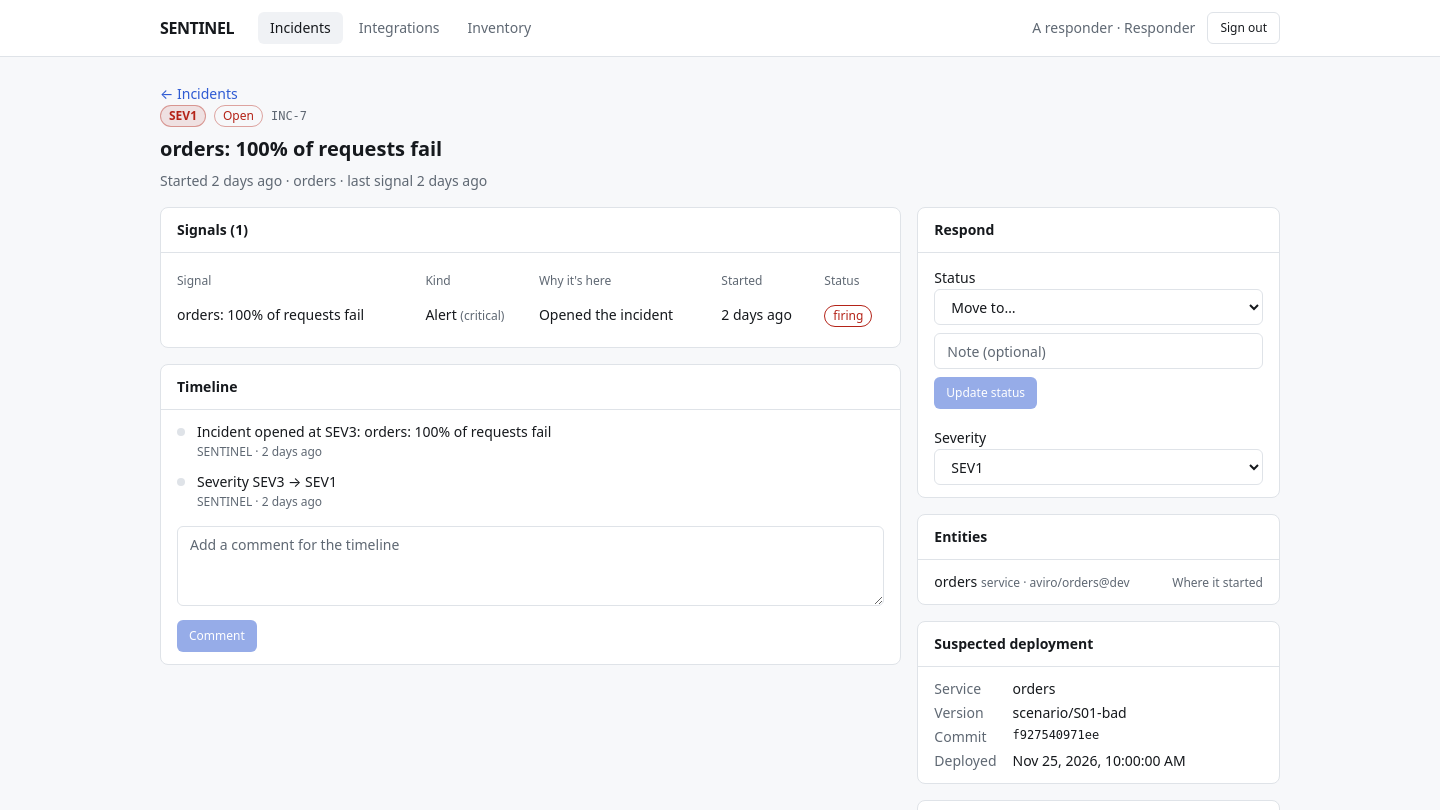
Test: incident detail › shows the server's refusal
Select "Resolved" in the dropdown labelled "Status". click: (1099, 307)
box: [934,289,1263,325]
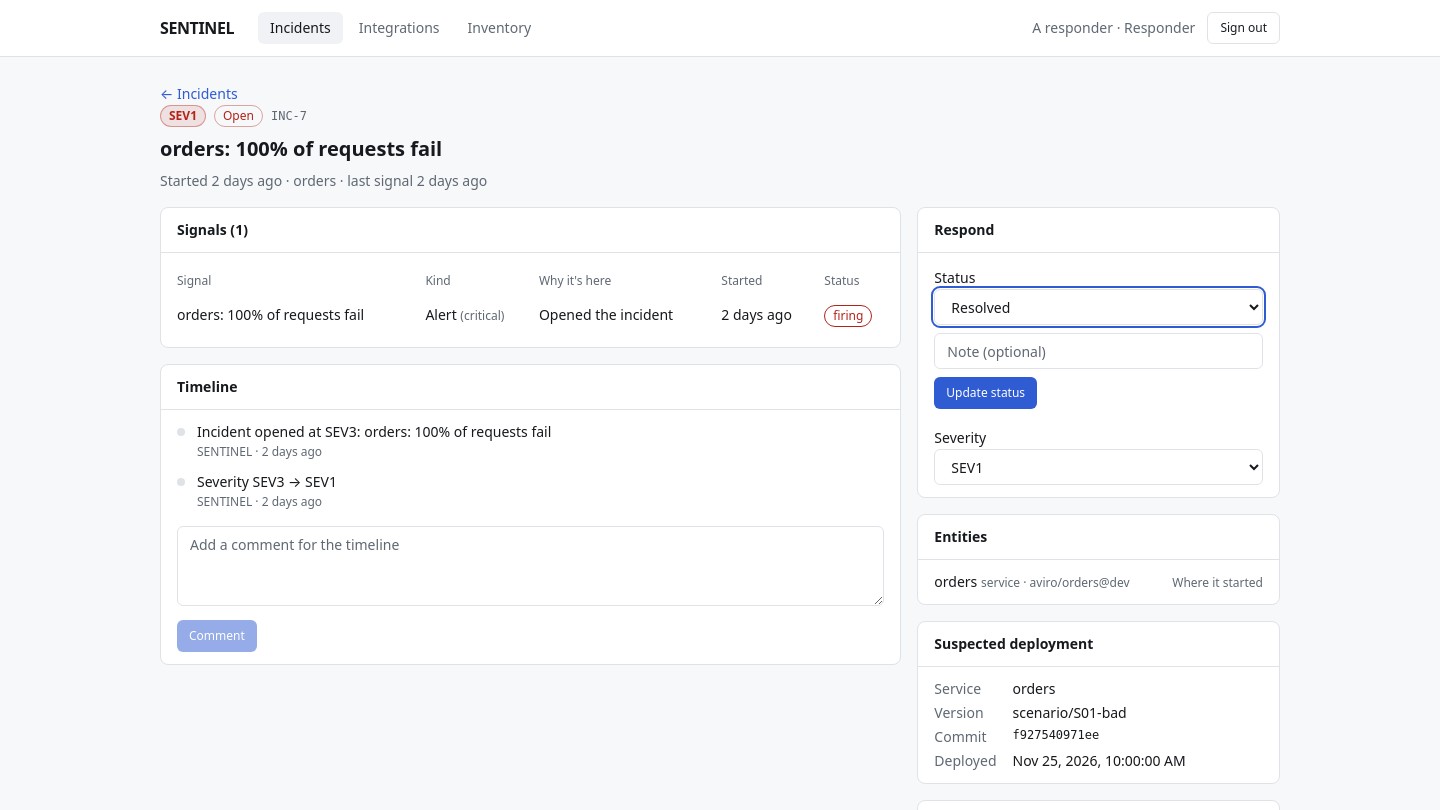
Click the button "Update status". click: (986, 393)
box: [934,377,1037,409]
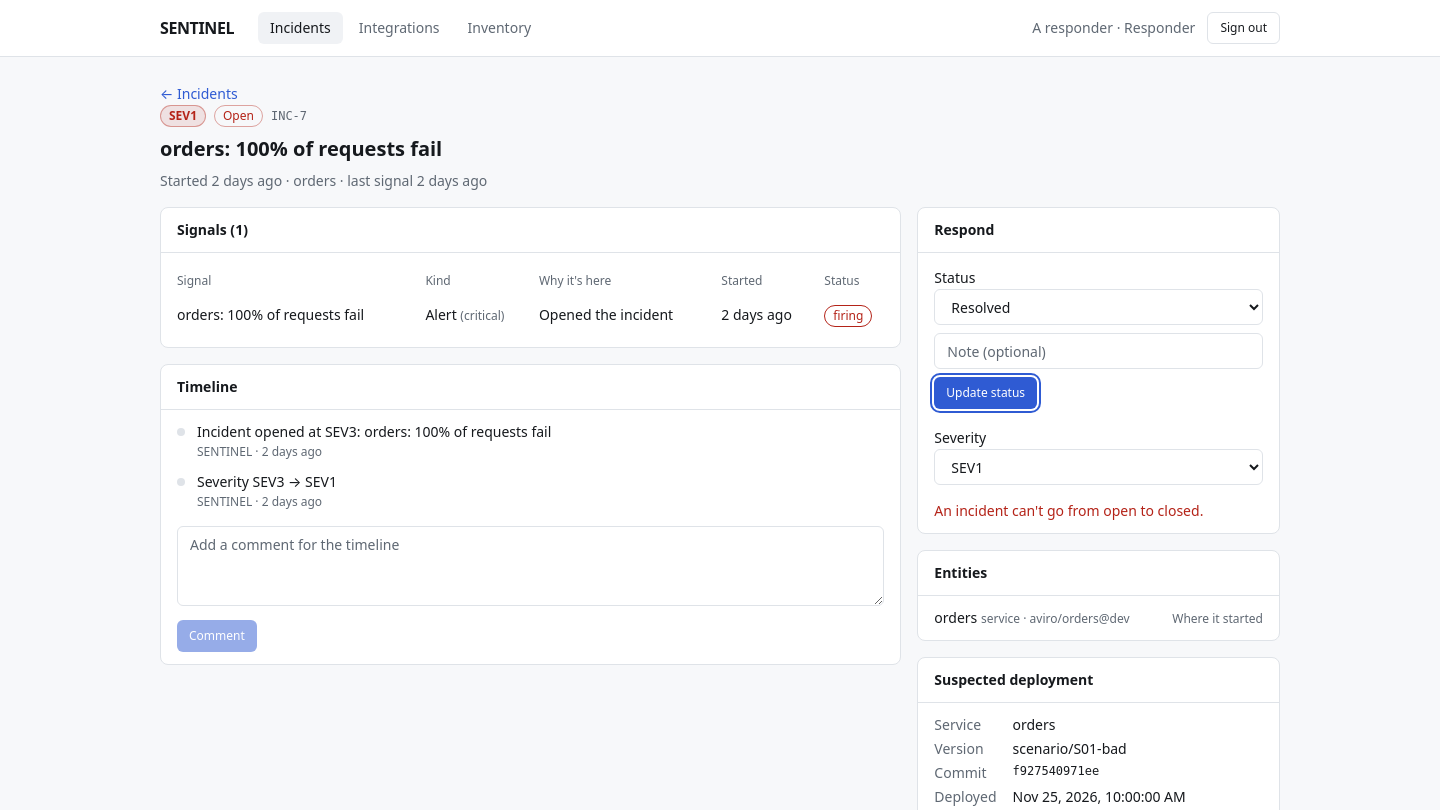
Now the message shows "can't go from open to closed", box [934,501,1203,520]
